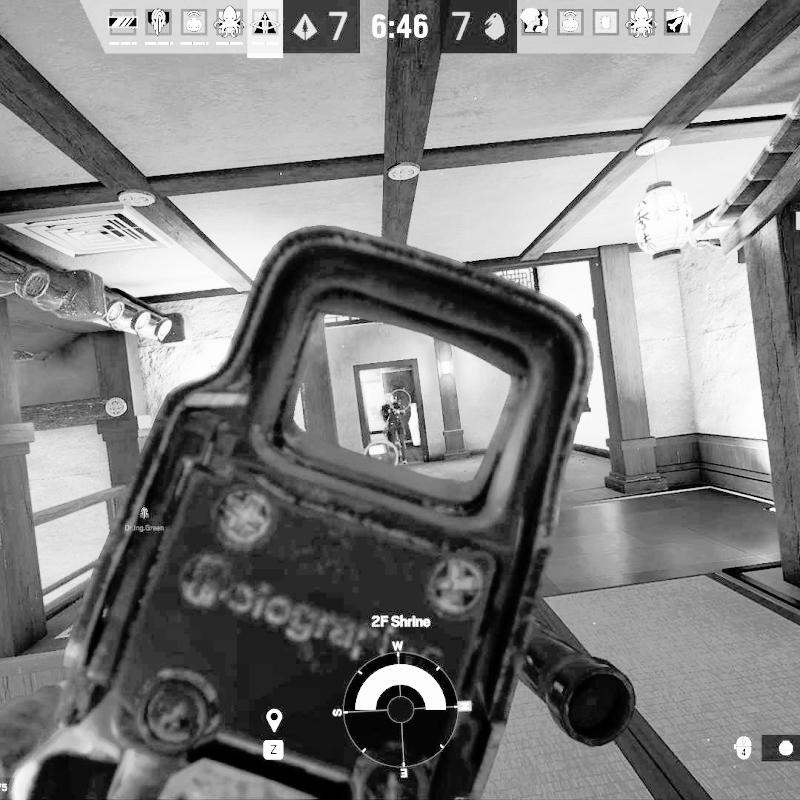Character: (381, 391, 409, 465)
Friend_label: (124, 504, 167, 533)
Head: (385, 393, 393, 403)
